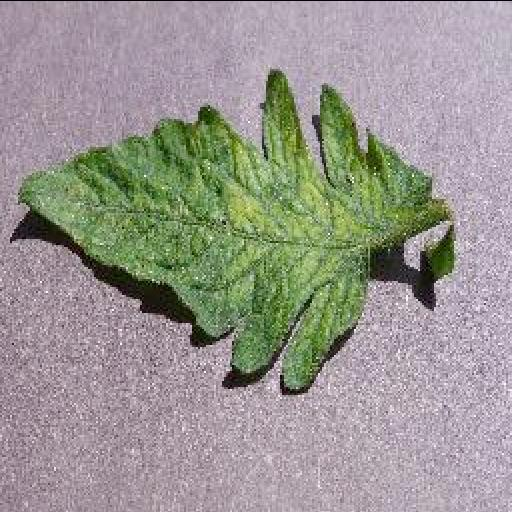Mosaic Virus: (13, 64, 435, 394)
